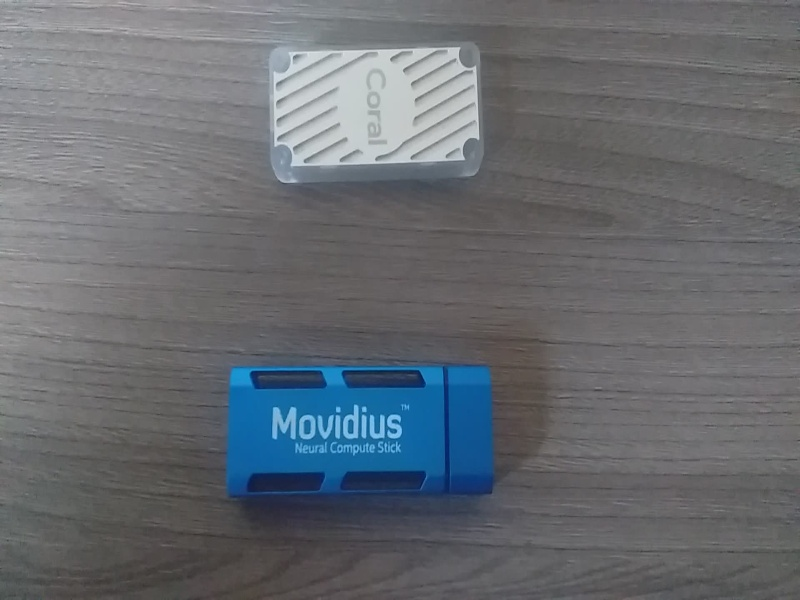coral: (257, 27, 493, 201)
movidius: (218, 348, 508, 509)
